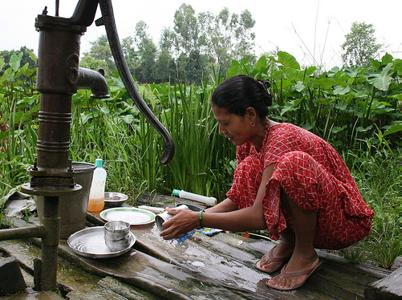person: (163, 73, 371, 291)
